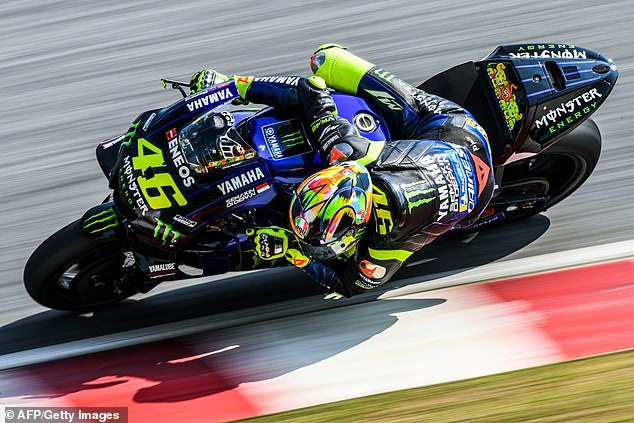helmet: (287, 169, 362, 257)
